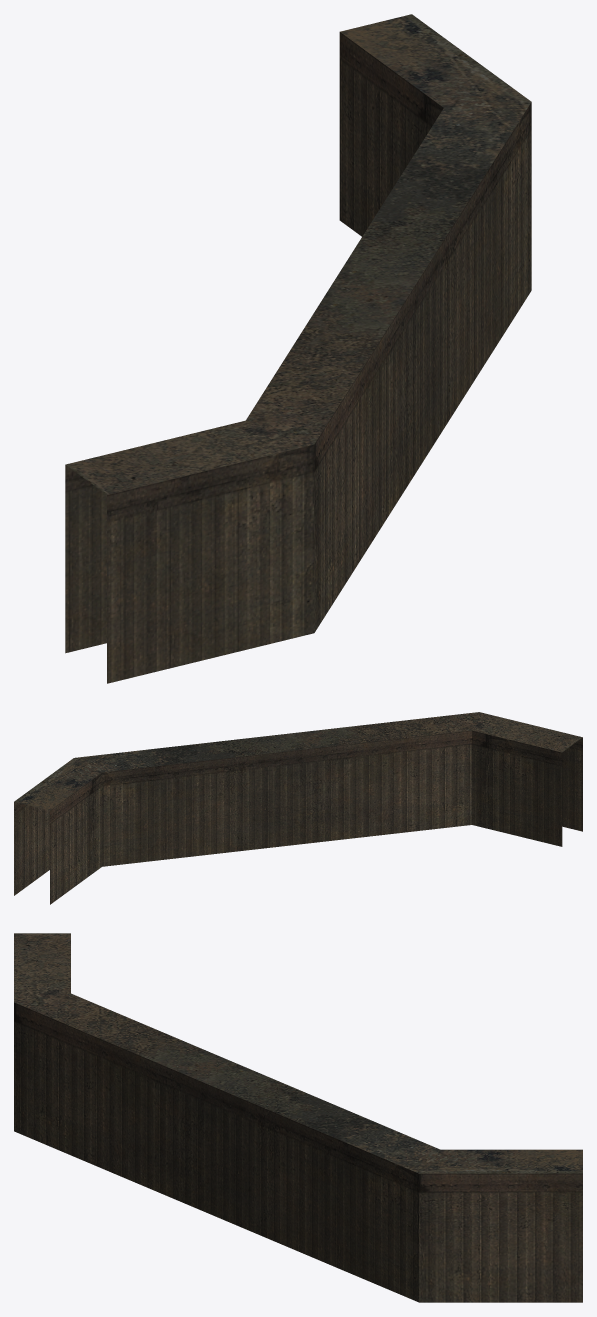
Rendered from wall_rx_1_m1a_1_1_3_height.obj.
3 renders of one model, top to bottom at view 1: azimuth 30°, elevation 25°; view 2: azimuth 150°, elevation 25°; view 3: azimuth 270°, elevation 25°, orthographic. The views are drawn at different scales.
Visible parts, largest first — view 1: wall_rx_1_m1a_1_1/3_height; view 2: wall_rx_1_m1a_1_1/3_height; view 3: wall_rx_1_m1a_1_1/3_height.
Boxes of the visible parts, x1,y1,x2,y2 form: wall_rx_1_m1a_1_1/3_height: (65, 14, 531, 683); wall_rx_1_m1a_1_1/3_height: (14, 712, 582, 904); wall_rx_1_m1a_1_1/3_height: (14, 933, 582, 1302).
Size of the model in its own units: 4 by 1 by 4.
